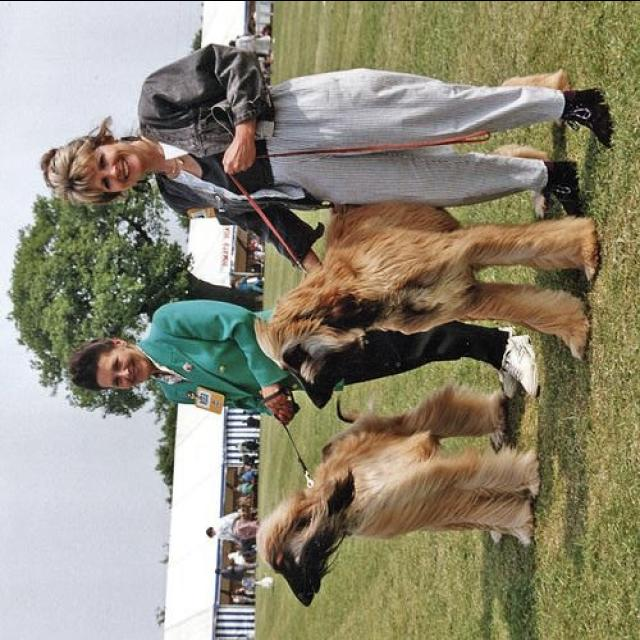afghan_hound: (251, 68, 599, 408), (255, 381, 546, 608)
